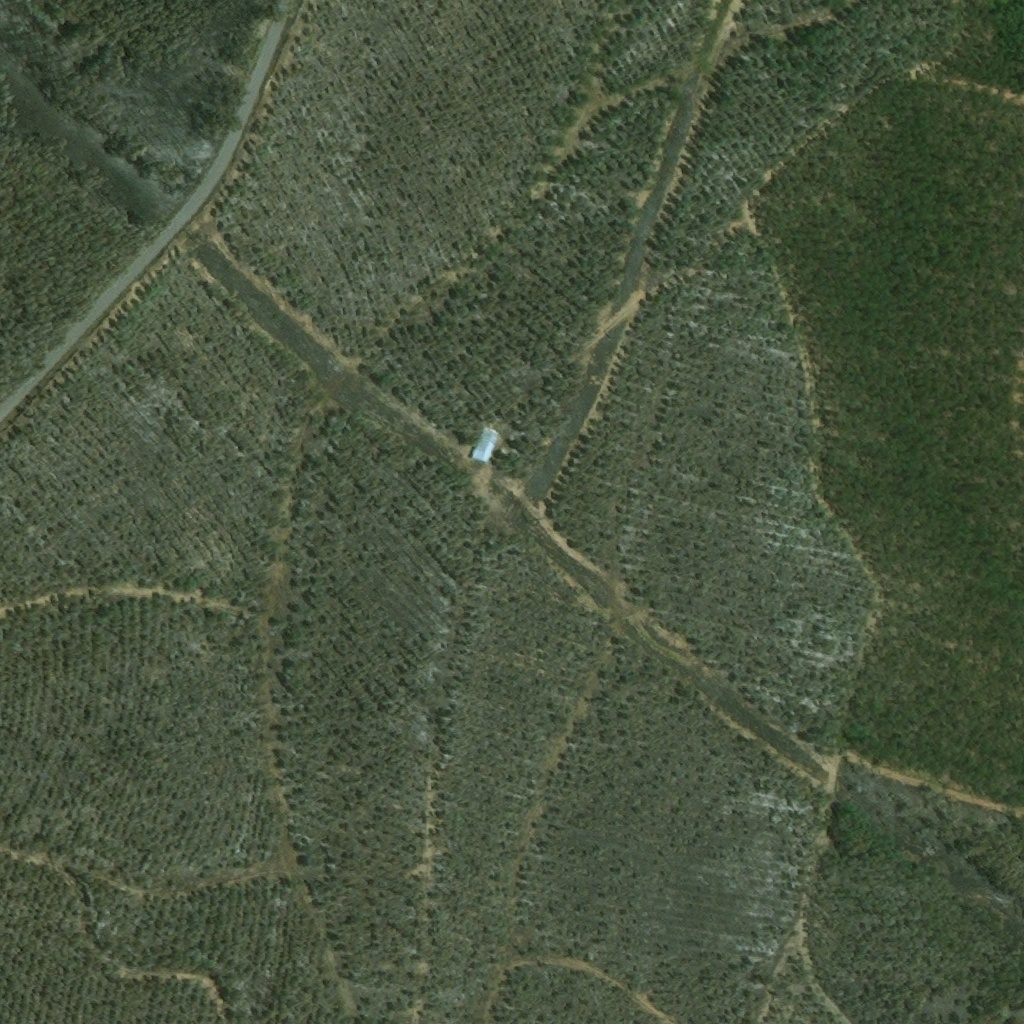0 no-damage: (470, 429, 500, 464)
